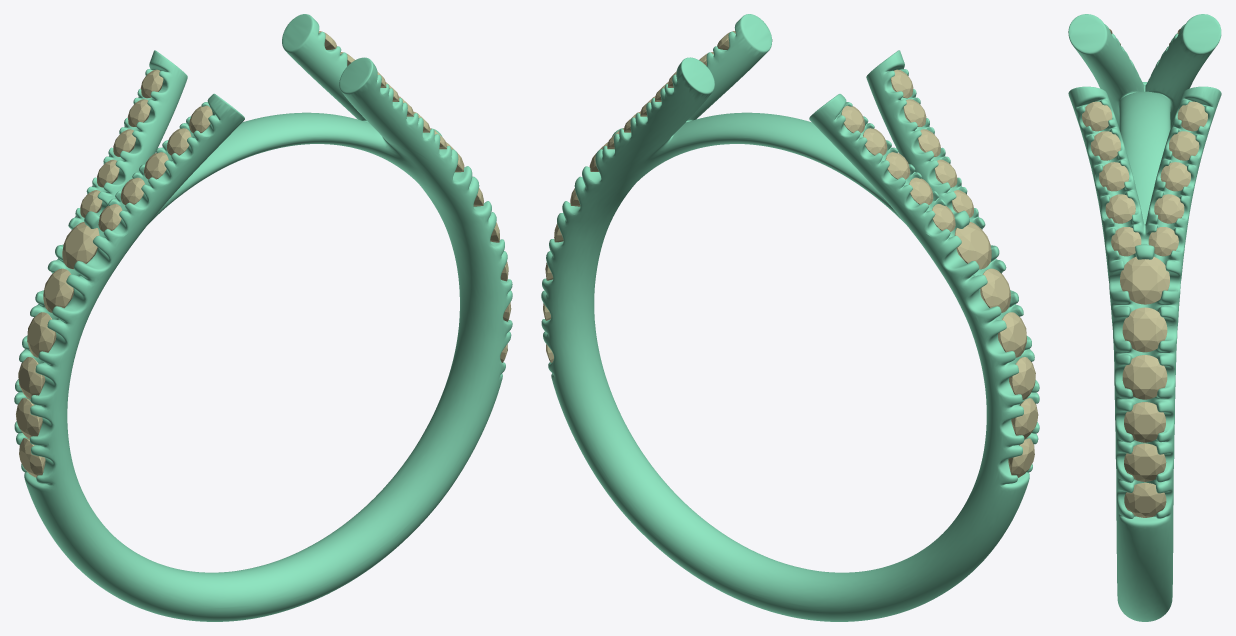
3 renders of one model, left to right at view 1: azimuth 30°, elevation 25°; view 2: azimuth 150°, elevation 25°; view 3: azimuth 270°, elevation 25°, orthographic. The views are drawn at different scales.
Parts seen in each view (by area): view 1: Metal02, Diamond_Gem.021, Diamond_Gem.022, Diamond_Gem.023, Diamond_Gem.024, Diamond_Gem.025; view 2: Metal02, Diamond_Gem.021, Diamond_Gem.022, Diamond_Gem.023, Diamond_Gem.024, Diamond_Gem.025; view 3: Metal02, Diamond_Gem.010, Diamond_Gem.009, Diamond_Gem.008, Diamond_Gem.007, Diamond_Gem.006, Diamond_Gem.005, Diamond_Gem.003, Diamond_Gem.011, Diamond_Gem.013, Diamond_Gem.001, Diamond_Gem (+5 smaller).
Part boxes in pixels (<box>): Metal02: <box>14,14,512,621</box>; Diamond_Gem.021: <box>62,222,99,269</box>; Diamond_Gem.022: <box>43,268,73,312</box>; Diamond_Gem.023: <box>27,312,56,357</box>; Diamond_Gem.024: <box>18,357,45,399</box>; Diamond_Gem.025: <box>16,398,42,439</box>; Metal02: <box>541,14,1039,621</box>; Diamond_Gem.021: <box>954,222,991,269</box>; Diamond_Gem.022: <box>980,268,1010,312</box>; Diamond_Gem.023: <box>998,312,1026,357</box>; Diamond_Gem.024: <box>1009,357,1035,399</box>; Diamond_Gem.025: <box>1011,398,1038,439</box>; Metal02: <box>1068,14,1221,621</box>; Diamond_Gem.010: <box>1120,257,1169,304</box>; Diamond_Gem.009: <box>1122,307,1167,352</box>; Diamond_Gem.008: <box>1122,355,1167,399</box>; Diamond_Gem.007: <box>1124,402,1165,442</box>; Diamond_Gem.006: <box>1124,443,1166,481</box>; Diamond_Gem.005: <box>1124,482,1166,517</box>; Diamond_Gem.003: <box>1105,194,1135,223</box>; Diamond_Gem.011: <box>1154,194,1184,223</box>; Diamond_Gem.013: <box>1169,131,1199,160</box>; Diamond_Gem.001: <box>1090,131,1120,160</box>; Diamond_Gem: <box>1082,101,1112,131</box>.
Bounding box in the file's own units: 20.73 × 22.81 × 5.8.
